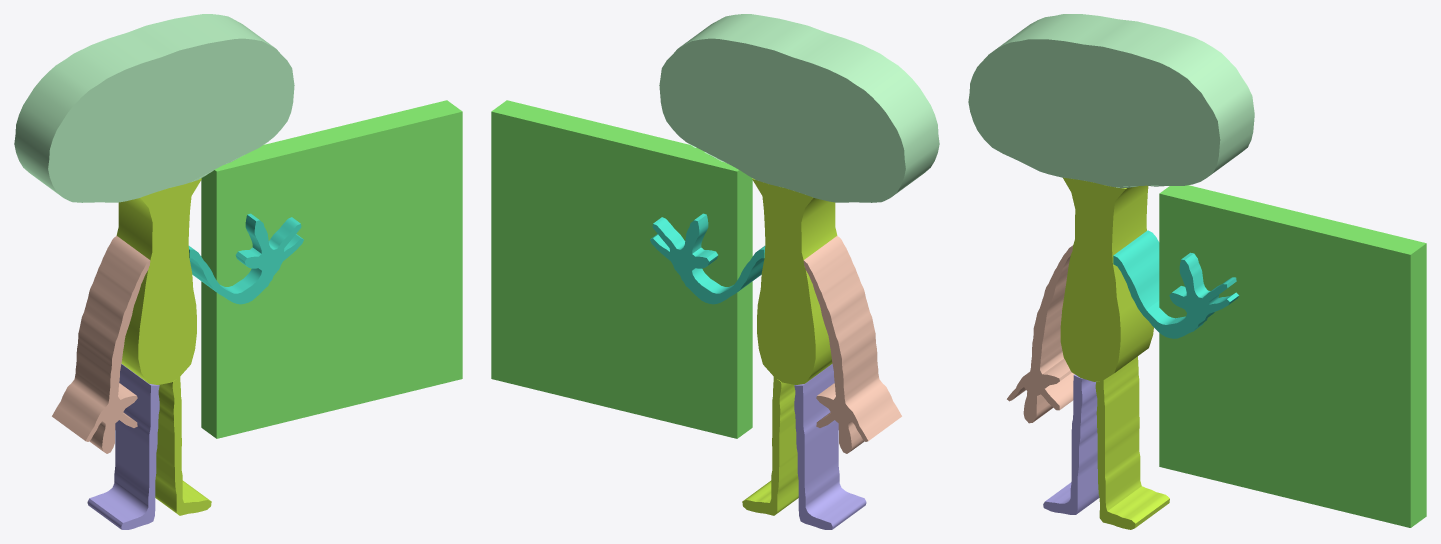
3 views of the same model, side by side, from view 1: azimuth 30°, elevation 25°; view 2: azimuth 150°, elevation 25°; view 3: azimuth 330°, elevation 25° (orthographic). The views are drawn at different scales.
Parts seen in each view (by area): view 1: Object_2.404, split_parent_0, Object_2.066, Object_2.204, Object_2.357, Object_2.101; view 2: Object_2.404, split_parent_0, Object_2.066, Object_2.204, Object_2.357, Object_2.101; view 3: Object_2.404, split_parent_0, Object_2.066, Object_2.101, Object_2.204, Object_2.357.
Part boxes in pixels (x1,y1,x2,y2): Object_2.404: (201,100,462,438); split_parent_0: (14,14,294,202); Object_2.066: (116,178,211,515); Object_2.204: (52,235,150,453); Object_2.357: (87,364,159,529); Object_2.101: (188,213,303,304); Object_2.404: (491,100,752,438); split_parent_0: (659,14,939,202); Object_2.066: (742,178,837,515); Object_2.204: (803,235,901,453); Object_2.357: (794,364,866,529); Object_2.101: (650,213,765,304); Object_2.404: (1159,185,1426,527); split_parent_0: (968,14,1254,188); Object_2.066: (1060,177,1169,529); Object_2.101: (1113,230,1239,338); Object_2.204: (1007,245,1074,423); Object_2.357: (1043,374,1099,514).
Size of the model in its own units: 0.9492 by 1 by 0.1311.
